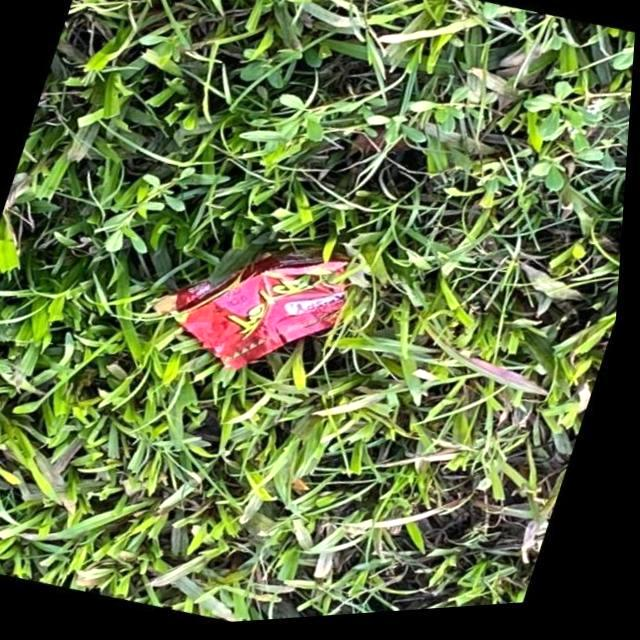packet: (164, 232, 373, 385)
